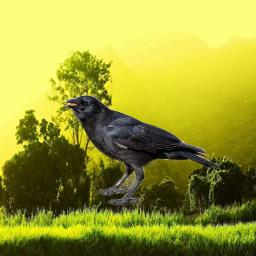Crow: (64, 94, 217, 206)
